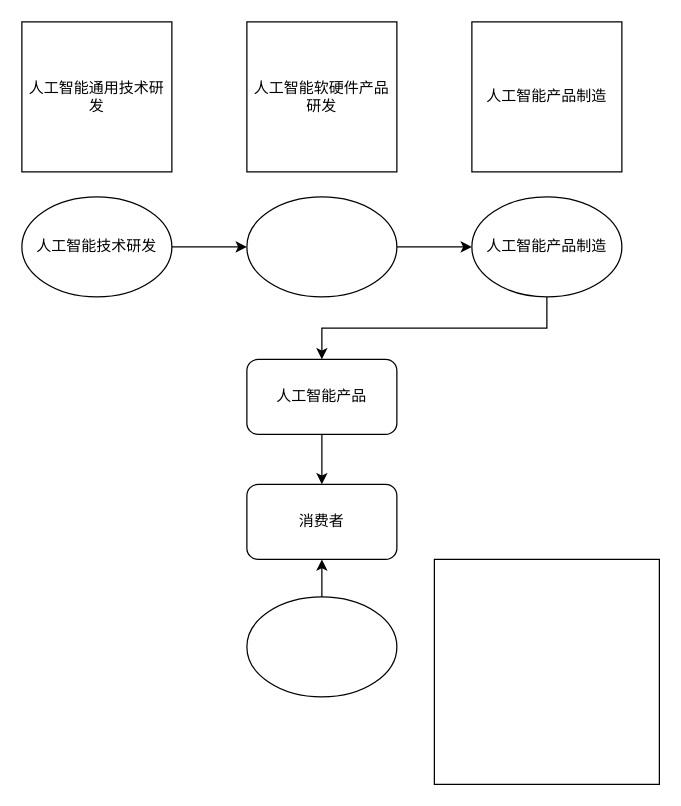
This 681x806 diagram has some shape labels left out. Here are the shapes that lost their labels. From the top down, the centre of each, then its label:
At (x=321, y=246): "人工智能产品研发".
At (x=321, y=646): "销售与服务".
At (x=546, y=671): "人工智能产品销售 人工智能产品租赁服务 人工智能教育服务 人工智能数据服务 。。。".
